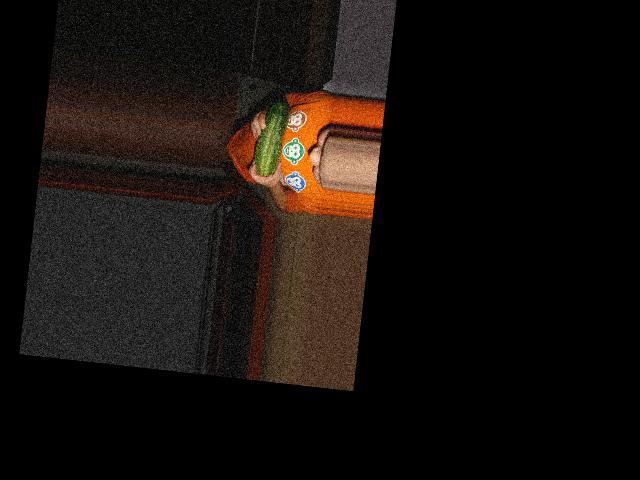cucumber: (252, 96, 290, 178)
